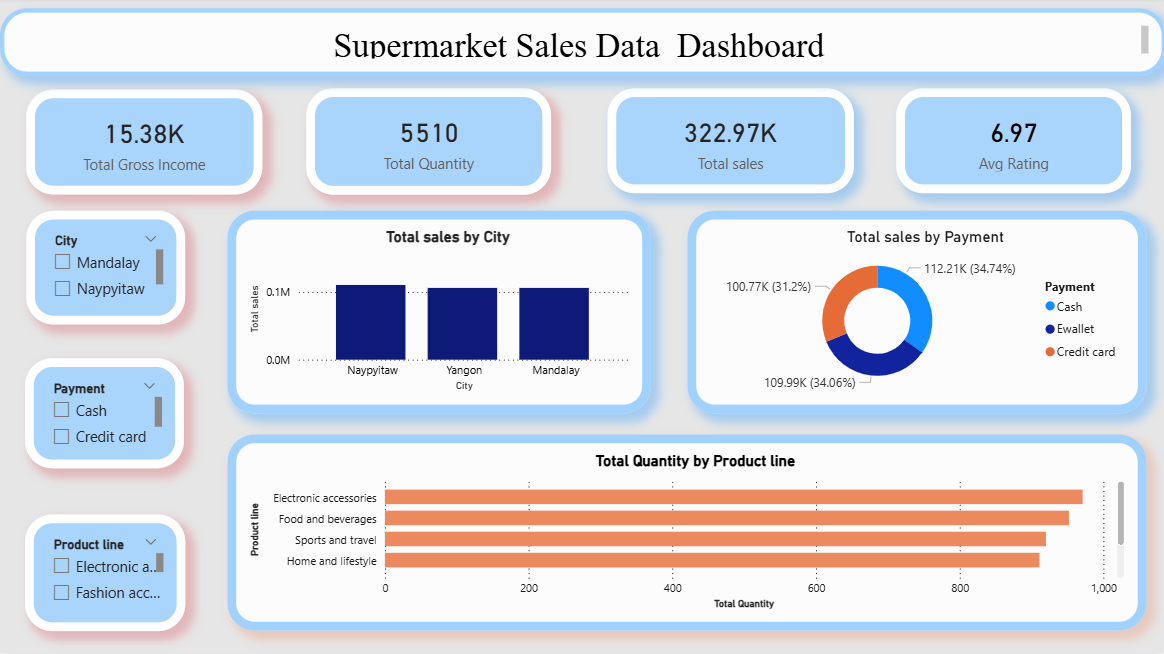

Layout of this report page (visuals, bound fields, positions):
{"tool":"powerbi","page":{"name":"supermarket sales","canvas":[1280,720],"ordinal":0},"visuals":[{"type":"clusteredColumnChart","fields":{"Category":["supermarket_sales.City"],"Y":["supermarket_sales.Total sales"]},"box":[249.7,234.6,465.2,222.3],"z":0},{"type":"donutChart","fields":{"Category":["supermarket_sales.Payment"],"Y":["supermarket_sales.Total sales"]},"box":[754.7,234.6,503.6,222.3],"z":1000},{"type":"card","fields":{"Values":["supermarket_sales.Total Gross Income"]},"box":[28.8,101.5,259.3,115.3],"z":2000},{"type":"card","fields":{"Values":["supermarket_sales.Total Quantity"]},"box":[336.2,100.2,269,116.6],"z":3000},{"type":"card","fields":{"Values":["supermarket_sales.Total sales"]},"box":[666.9,100.2,270.3,115.3],"z":4000},{"type":"card","fields":{"Values":["supermarket_sales.Avg Rating"]},"box":[983.9,100.2,258,115.3],"z":5000},{"type":"slicer","fields":{"Values":["supermarket_sales.City"]},"box":[28.8,234.6,174.3,124.9],"z":6000},{"type":"slicer","fields":{"Values":["supermarket_sales.Payment"]},"box":[27.4,396.6,174.3,120.8],"z":7000},{"type":"textbox","box":[0,12.3,1280.3,74.1],"z":8000},{"type":"slicer","fields":{"Values":["supermarket_sales.Product line"]},"box":[27.4,568.1,175.6,127.6],"z":9000},{"type":"barChart","fields":{"Category":["supermarket_sales.Product line"],"Y":["supermarket_sales.Total Quantity"]},"box":[249.7,480.3,1008.6,215.4],"z":10000}]}

Visuals, with their boxes in screenshot pixels (x1, y1, x2, y2), scaled from the page's 1280x720 canvas onto the 1164x654 screenshot:
clusteredColumnChart - supermarket_sales.City x supermarket_sales.Total sales: (x1=227, y1=213, x2=650, y2=415)
donutChart - supermarket_sales.Payment x supermarket_sales.Total sales: (x1=686, y1=213, x2=1144, y2=415)
card - supermarket_sales.Total Gross Income: (x1=26, y1=92, x2=262, y2=197)
card - supermarket_sales.Total Quantity: (x1=306, y1=91, x2=550, y2=197)
card - supermarket_sales.Total sales: (x1=606, y1=91, x2=852, y2=196)
card - supermarket_sales.Avg Rating: (x1=895, y1=91, x2=1129, y2=196)
slicer - supermarket_sales.City: (x1=26, y1=213, x2=185, y2=327)
slicer - supermarket_sales.Payment: (x1=25, y1=360, x2=183, y2=470)
textbox: (x1=0, y1=11, x2=1163, y2=78)
slicer - supermarket_sales.Product line: (x1=25, y1=516, x2=185, y2=632)
barChart - supermarket_sales.Product line x supermarket_sales.Total Quantity: (x1=227, y1=436, x2=1144, y2=632)
